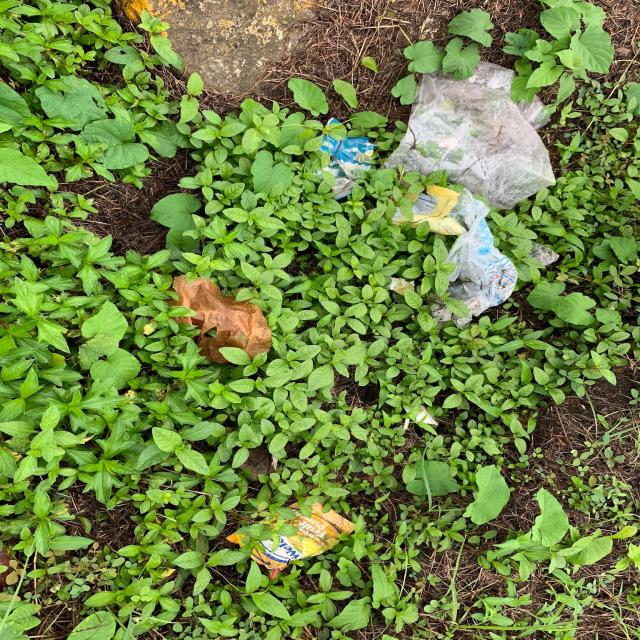litter: (383, 61, 555, 209), (163, 274, 270, 364), (225, 496, 355, 570), (312, 116, 375, 200), (365, 184, 465, 235), (270, 568, 280, 578)
